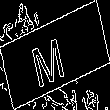M_N: (35, 24, 75, 86)
